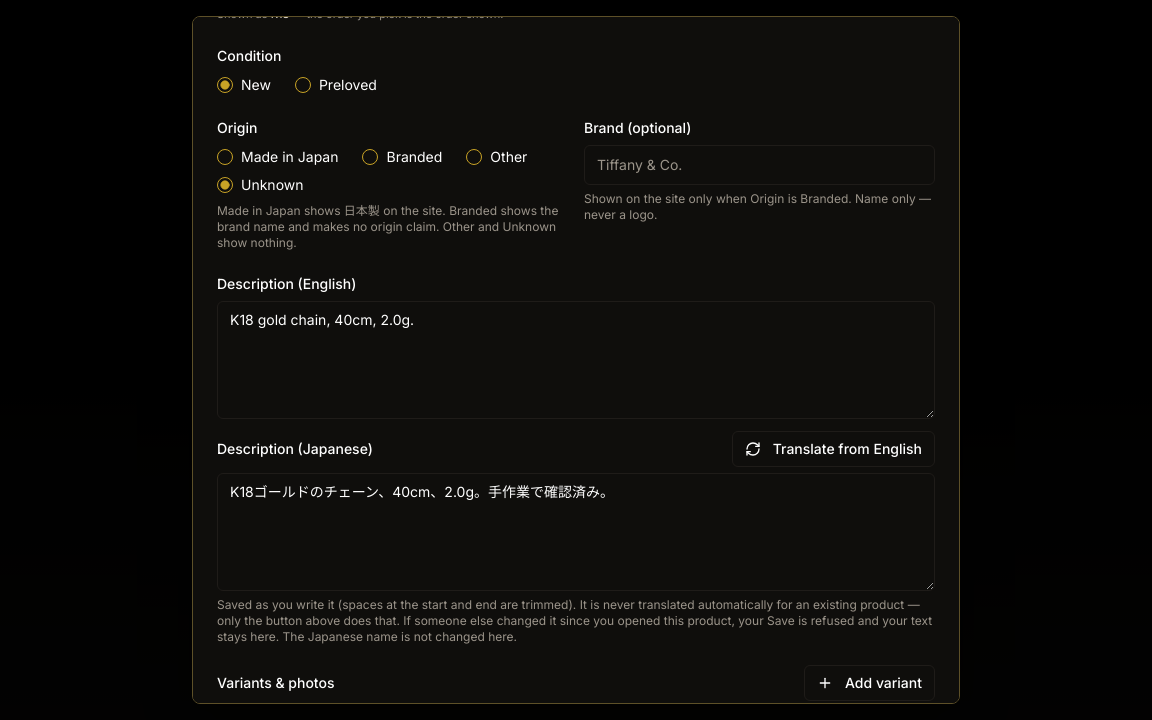
it: ProductDialog › typing the English does not change the Japanese
(page scrolled)
Replace the text in the text box with placeholder "K18 gold, 40cm, 2.0g." with "Changed.": (576, 360) 217,300 -> 935,418
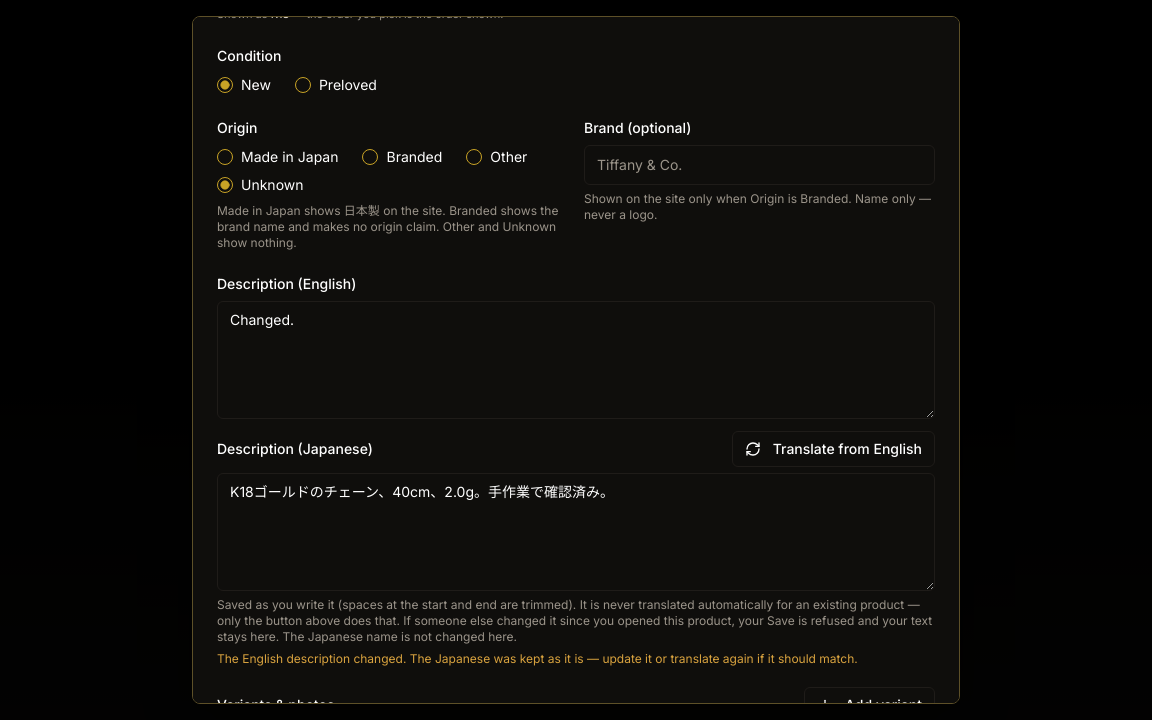
Expected: the text box labelled "Description (Japanese)" holds "K18ゴールドのチェーン、40cm、2.0g。手作業で確認済み。", 217,472 -> 935,590
Now the message shows "Japanese was kept", box 217,650 -> 858,666
